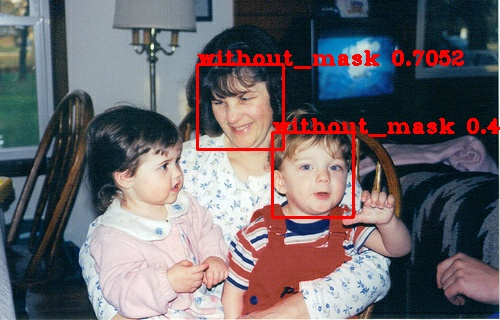without_mask: (191, 40, 295, 152), (93, 118, 199, 223), (271, 118, 356, 215)
